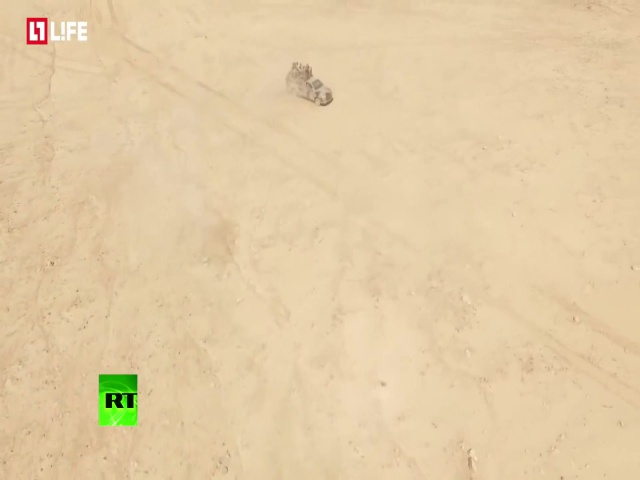vehicle: (283, 59, 333, 107)
